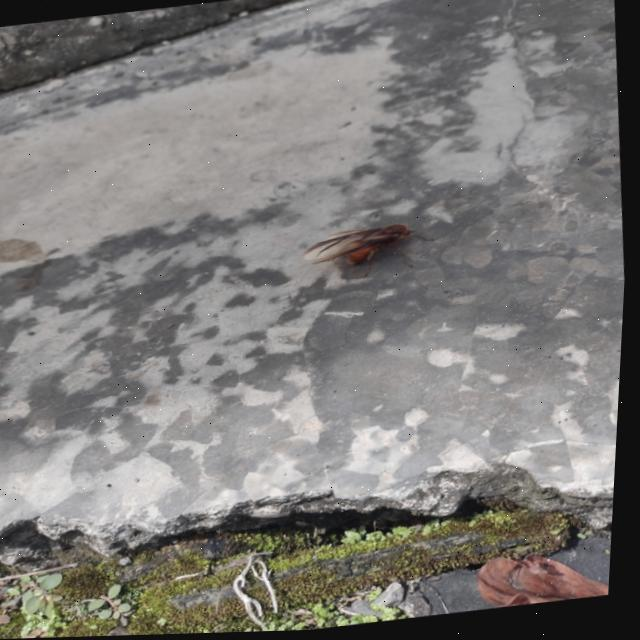Alive-Male-Alate: (301, 221, 442, 287)
